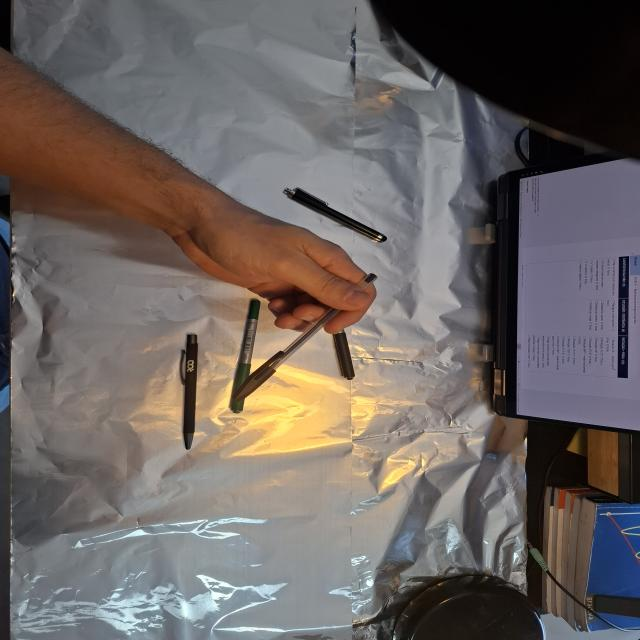glove_off: (166, 197, 379, 336)
